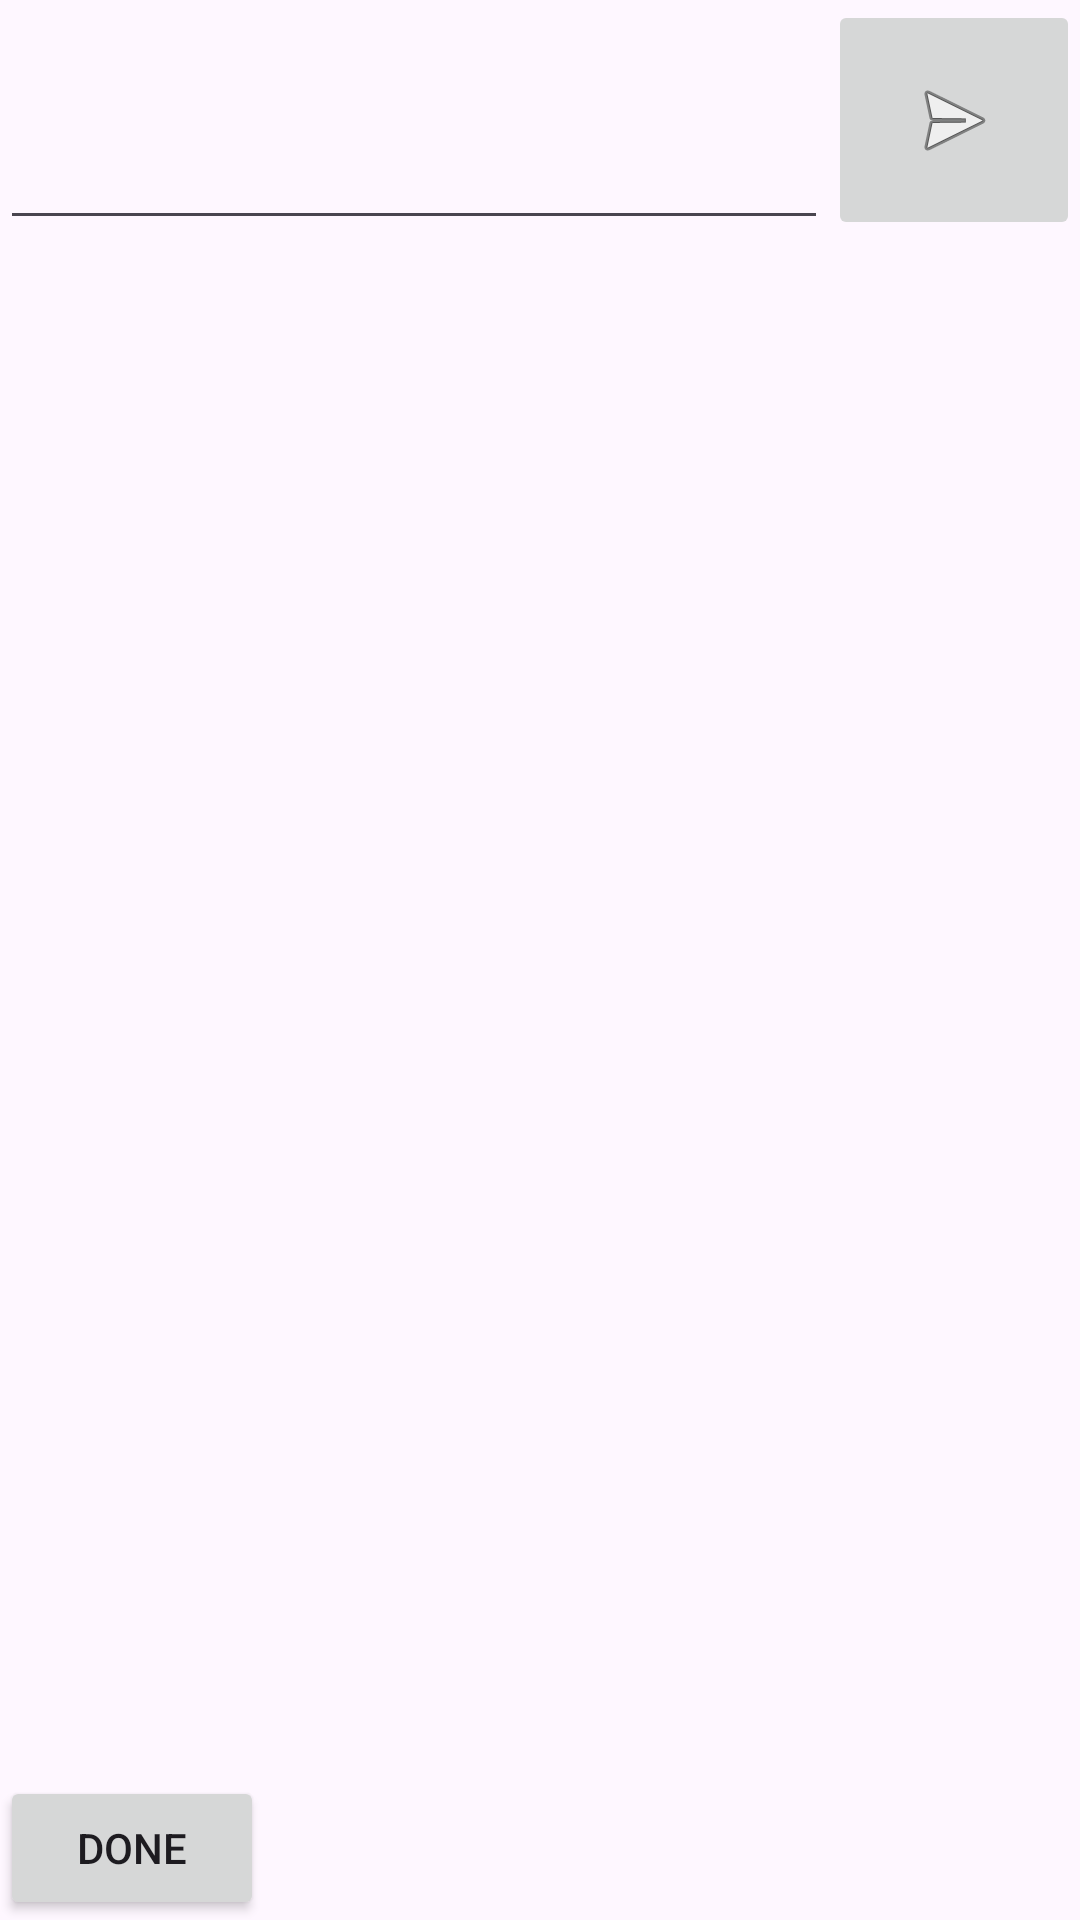

Point at icon controls on the screen. Image size 1080px×1920px, points as (x=x, y=y).
send: (x=954, y=120)
